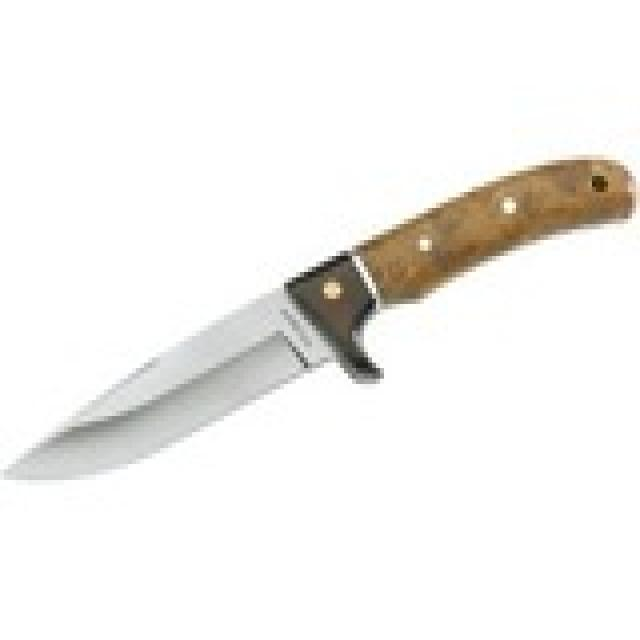Knife: (11, 138, 640, 489)
